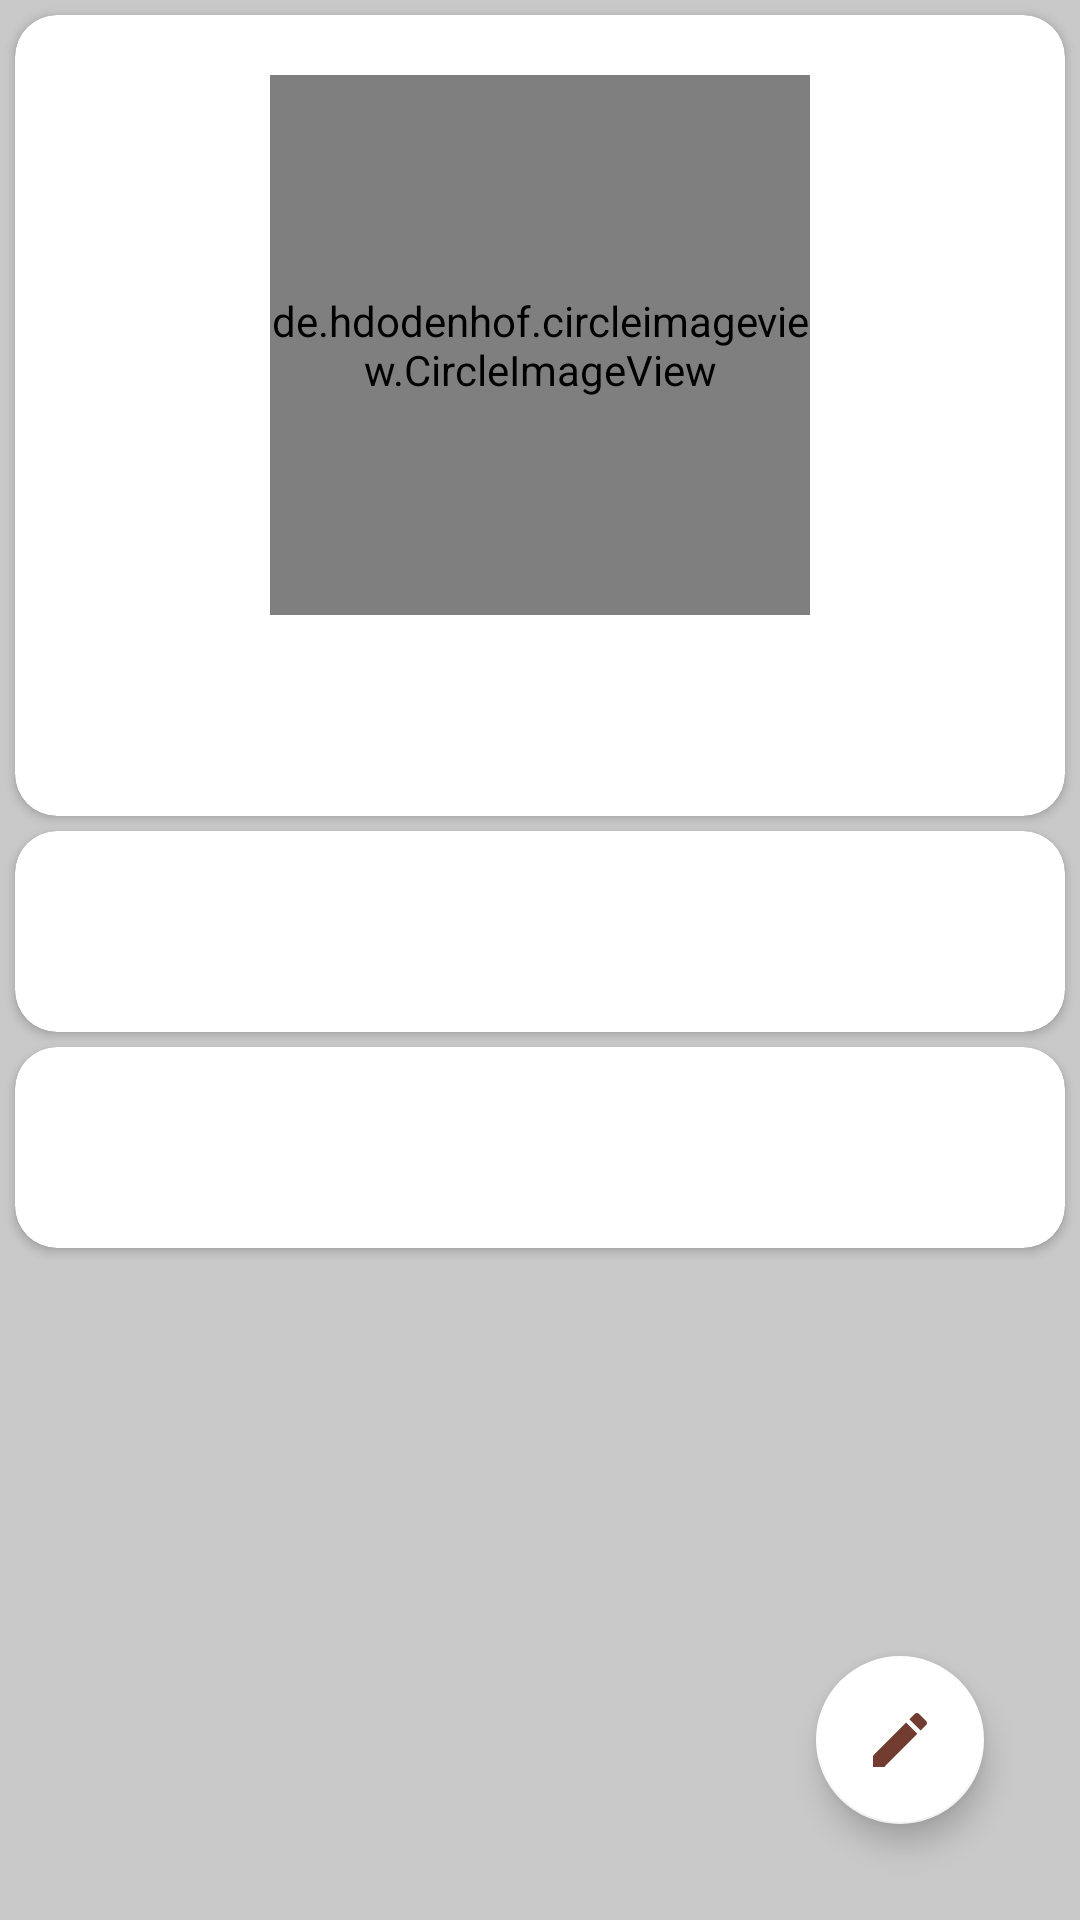

Named icons in this screenshot (1080x1920) and their centers, (x,y):
edit: (900,1740)
